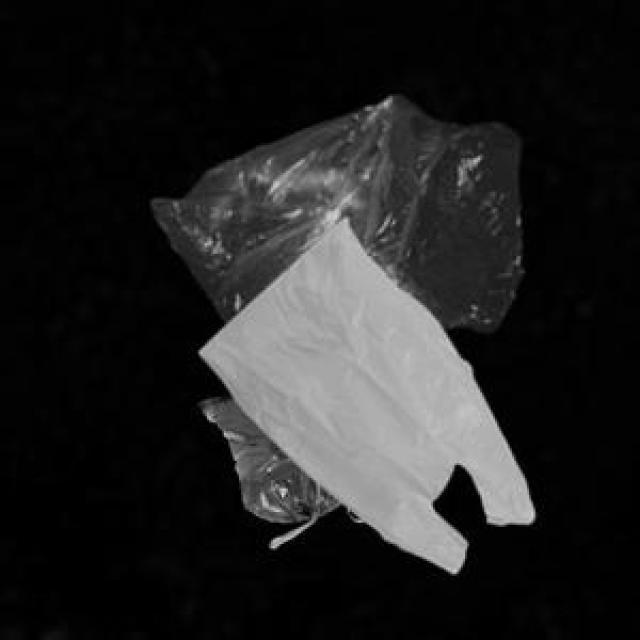miscellaneous trash: (196, 393, 337, 544)
